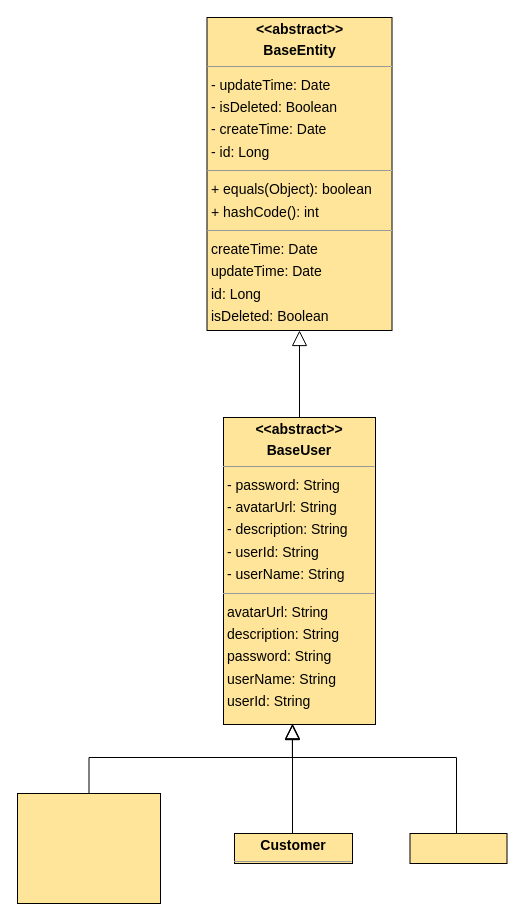
Image size: 525x921. Some labels were removed from this diagram. Here are the shapes that lost their labels. From the top down, the box of each, then its label:
(16, 792, 160, 904): Hotelier ~ hotelId: String + toString(): String hotelId: String
(409, 832, 507, 864): Admin
